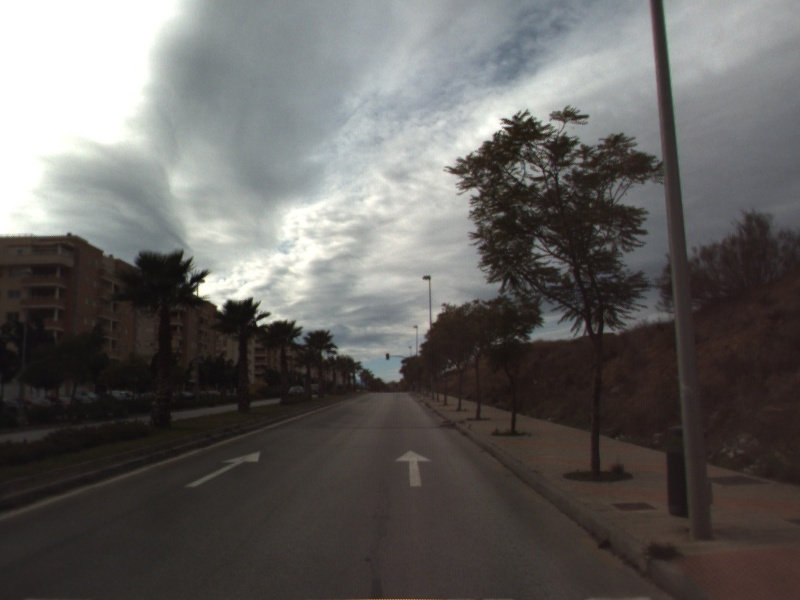STRAIGHT: (183, 449, 262, 489), (392, 448, 434, 488)
